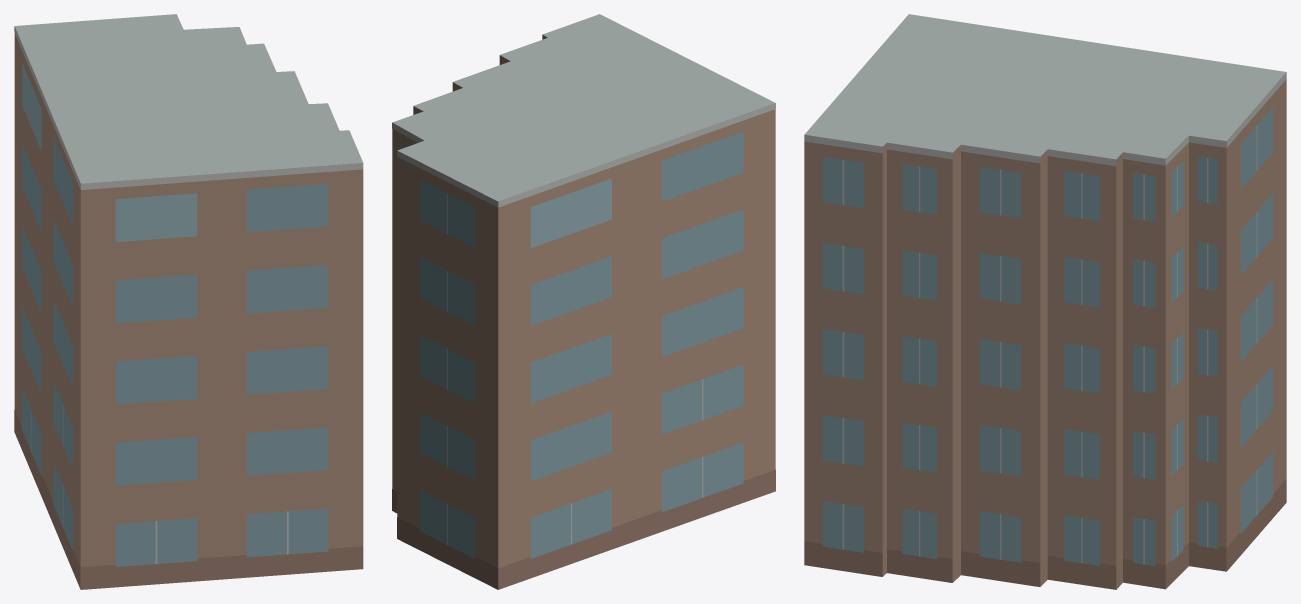
The model's file is survey-upis-32588321.glb.
3 renders of one model, left to right at view 1: azimuth 30°, elevation 25°; view 2: azimuth 150°, elevation 25°; view 3: azimuth 270°, elevation 25°, orthographic. The views are drawn at different scales.
Parts seen in each view (by area): view 1: survey-upis-32588321.tmp; view 2: survey-upis-32588321.tmp; view 3: survey-upis-32588321.tmp.
Part boxes in pixels (x1,y1,x2,y2): survey-upis-32588321.tmp: (14, 14, 363, 589); survey-upis-32588321.tmp: (392, 14, 775, 589); survey-upis-32588321.tmp: (804, 14, 1286, 589).
Size of the model in its own units: 11.22 by 15.48 by 15.73.
